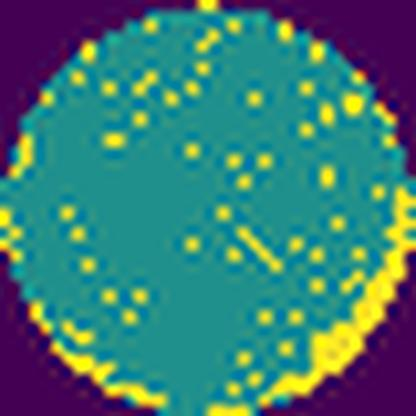Edge-Loc: (269, 182, 415, 416), (22, 302, 171, 414), (204, 408, 250, 416)
